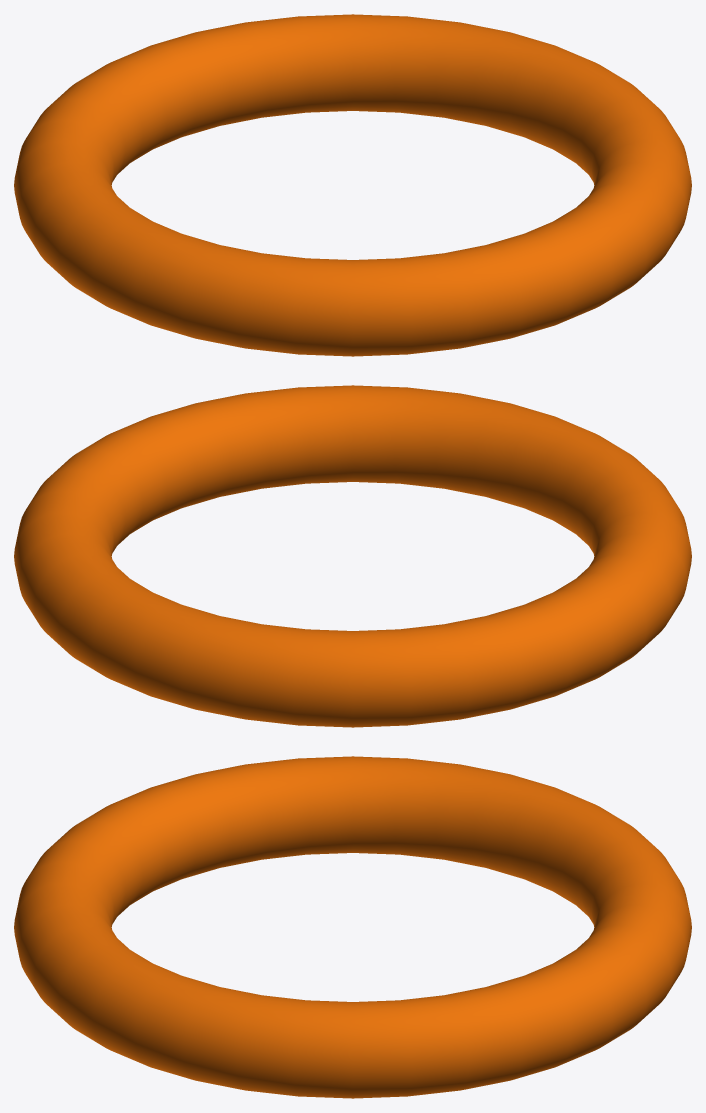
3 views of the same model, one above another, from view 1: azimuth 30°, elevation 25°; view 2: azimuth 150°, elevation 25°; view 3: azimuth 270°, elevation 25° (orthographic).
Visible parts, largest first — view 1: Note; view 2: Note; view 3: Note.
Boxes of the visible parts, x1,y1,x2,y2 form: Note: (14, 14, 691, 356); Note: (14, 385, 691, 727); Note: (14, 756, 691, 1098).
Bounding box in the file's own units: 0.3556 × 0.0508 × 0.3556.
